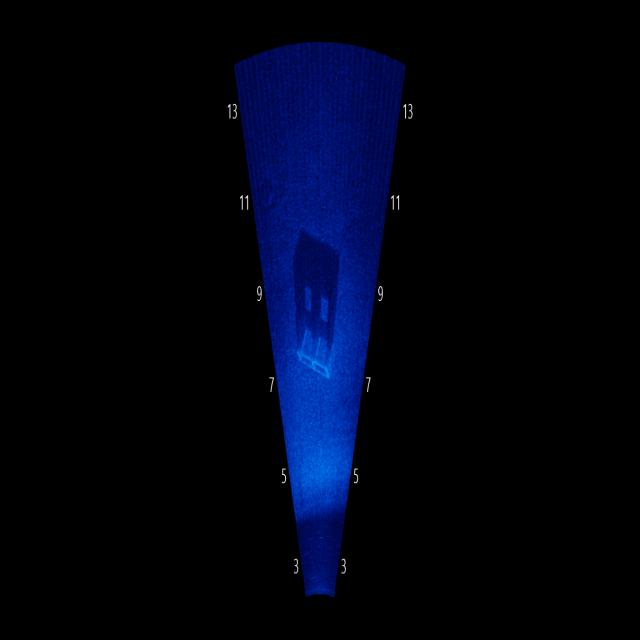square: (286, 215, 344, 393)
